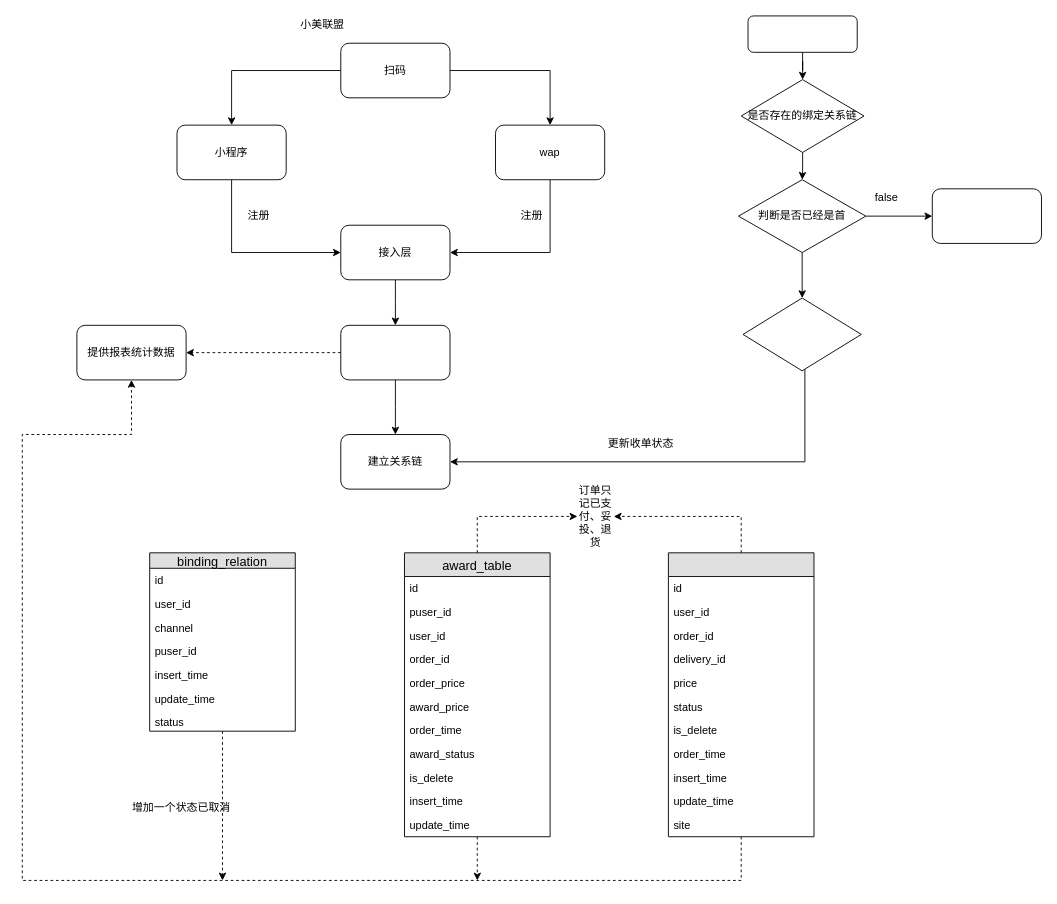
This 1057x904 diagram has some shape labels left out. The shapes that lost their labels are listed below. From the top down, each one's box as (x1, y1, x2, y2) in pixels, then its label:
(747, 15, 857, 52): oms
(931, 188, 1041, 243): 返回
(340, 324, 450, 380): 关系链底层处理关系链数据
(742, 297, 861, 371): 是否大于配置订单限价金额
(667, 552, 814, 837): delivery_table
